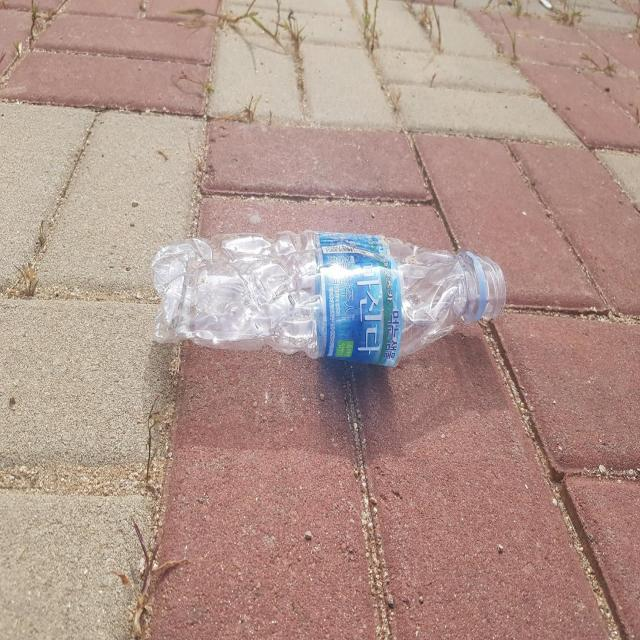plastic: (151, 230, 507, 366)
